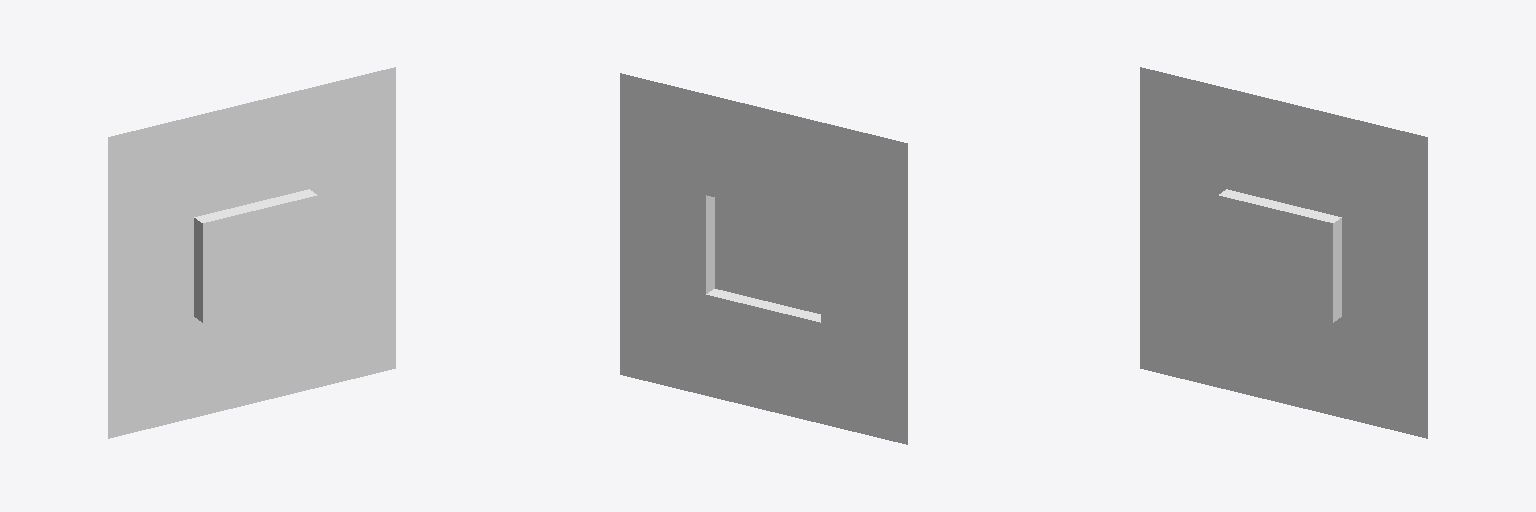
Rendered from wall-pane-painted-wood-window.obj.
3 renders of one model, left to right at view 1: azimuth 30°, elevation 25°; view 2: azimuth 150°, elevation 25°; view 3: azimuth 330°, elevation 25°, orthographic.
Visible parts, largest first — view 1: wall-pane-painted-wood-window; view 2: wall-pane-painted-wood-window; view 3: wall-pane-painted-wood-window.
Part boxes in pixels (left/top/right/bottom): wall-pane-painted-wood-window: left=108, top=67, right=395, bottom=438; wall-pane-painted-wood-window: left=620, top=73, right=907, bottom=444; wall-pane-painted-wood-window: left=1140, top=67, right=1427, bottom=438.
Bounding box in the file's own units: 1 × 1 × 0.05.